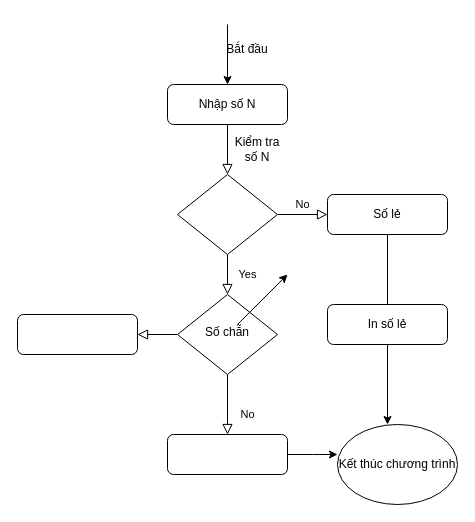
This 475x522 diagram has some shape labels left out. The shapes that lost their labels are listed below. From the top down, each one's centre as x and y in pixels, then its label:
At point (227, 214): "N / 2 ?".
At point (77, 334): "Phần dư = 0".
At point (227, 454): "In số chẵn".
